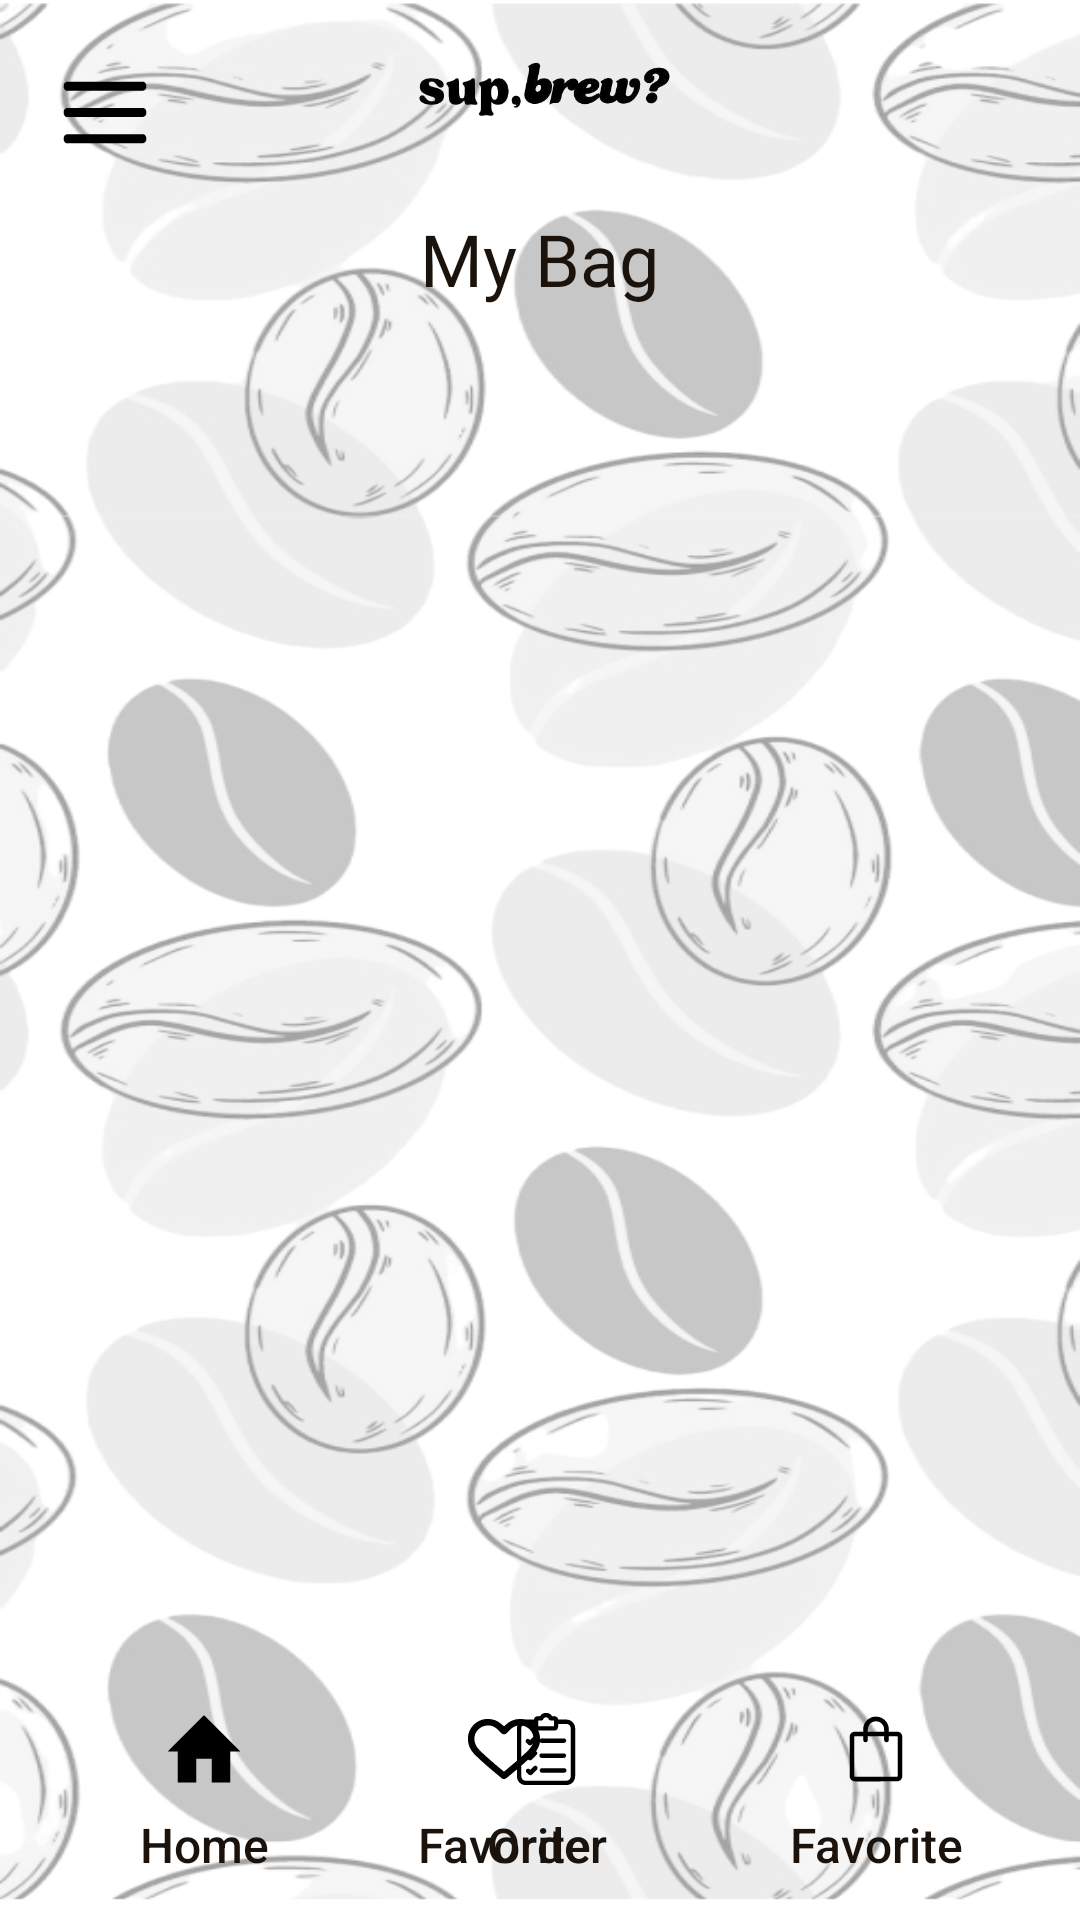

Screen size 1080x1920. Icon name, then its box in pixels as box=[x1, y1, x2, y2]:
burger: box=[61, 60, 150, 165]
